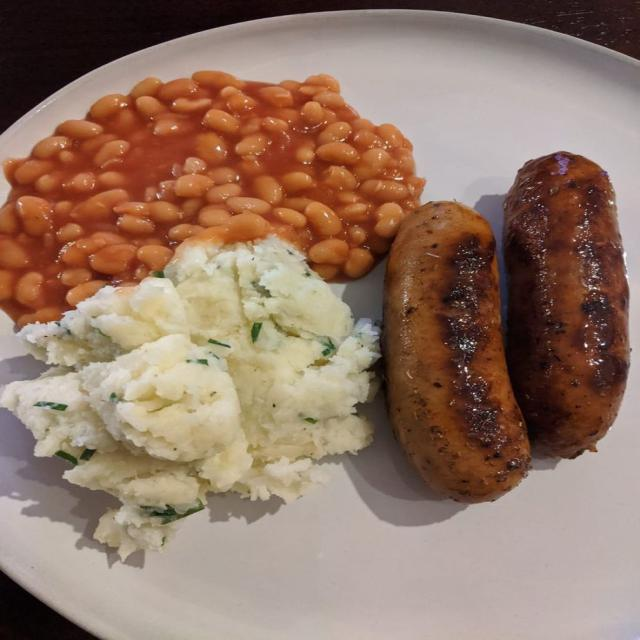beans: (0, 72, 424, 321), (74, 189, 129, 219), (90, 244, 137, 274), (16, 196, 51, 236), (225, 213, 269, 242), (305, 201, 341, 236), (354, 149, 391, 180), (76, 231, 125, 254), (373, 202, 404, 238), (66, 280, 108, 306), (195, 132, 227, 165), (308, 239, 349, 264), (15, 272, 44, 307), (94, 140, 130, 168), (192, 71, 245, 90), (360, 180, 407, 201), (157, 79, 199, 102), (90, 94, 128, 119), (316, 143, 359, 165), (203, 109, 239, 135), (174, 174, 213, 198), (14, 160, 53, 184), (58, 120, 103, 140), (343, 248, 373, 278), (137, 245, 173, 270), (0, 239, 30, 268), (34, 136, 71, 159), (253, 176, 282, 205), (323, 166, 357, 190), (226, 197, 271, 215), (111, 108, 138, 137), (118, 214, 154, 235), (318, 122, 352, 144), (149, 201, 181, 223), (135, 96, 167, 118), (80, 134, 117, 153), (206, 183, 241, 203), (282, 172, 315, 193), (235, 134, 268, 155), (131, 77, 162, 99), (337, 202, 369, 223), (198, 206, 230, 227), (274, 207, 306, 228), (60, 243, 88, 267), (352, 130, 384, 151), (259, 87, 293, 106), (305, 74, 339, 93), (237, 155, 265, 178), (66, 172, 96, 193), (172, 98, 211, 114), (376, 124, 404, 146), (168, 224, 204, 241), (154, 117, 186, 136), (227, 94, 257, 114), (60, 269, 92, 287), (393, 148, 415, 173), (0, 204, 18, 234), (301, 101, 323, 125), (367, 233, 391, 255), (208, 168, 239, 185), (114, 201, 149, 216), (2, 158, 23, 183), (97, 171, 126, 189), (57, 224, 83, 244), (33, 306, 63, 323), (182, 198, 205, 219), (217, 86, 241, 106), (314, 92, 344, 108), (375, 203, 403, 220), (0, 270, 15, 300), (274, 107, 300, 124), (156, 181, 177, 202), (282, 198, 313, 212), (312, 264, 339, 280), (262, 117, 289, 133), (240, 117, 261, 137), (295, 143, 315, 164), (183, 157, 207, 173), (347, 226, 366, 246), (53, 200, 74, 218), (336, 191, 362, 204), (298, 85, 326, 96), (323, 107, 339, 124), (352, 119, 374, 131), (279, 80, 302, 91), (134, 265, 149, 281), (59, 151, 76, 165)
mashed potatoes: (0, 237, 379, 558)
sausage: (383, 202, 530, 502), (503, 151, 629, 458)
